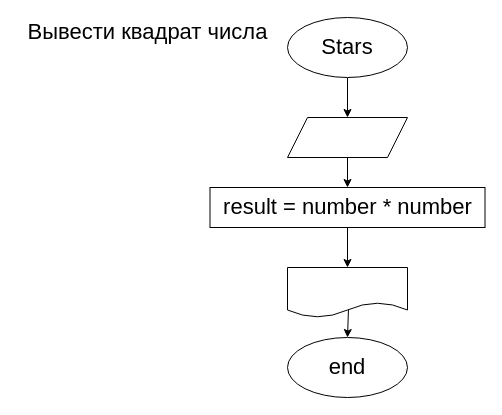
Some shapes in this 502 by 415 pixel diagram are drawn without their labels. Each missing label, with the centre of its shape:
number: (347,137)
result: (347,292)
